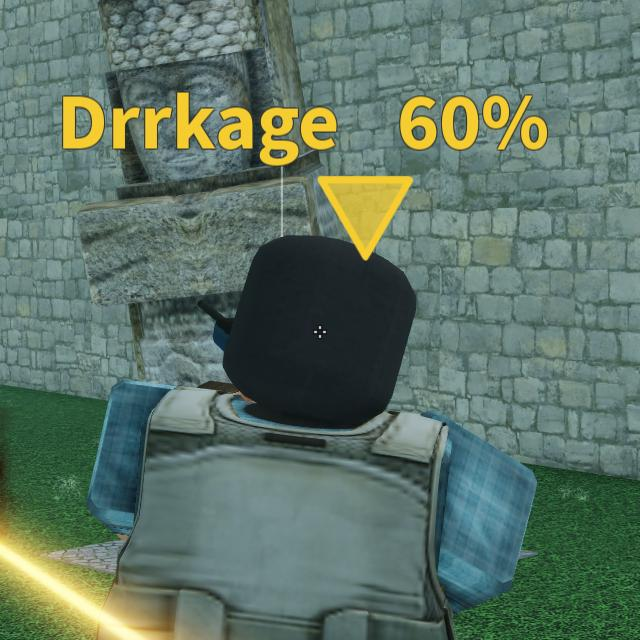Head: (221, 237, 417, 409)
Player: (88, 237, 537, 640)
